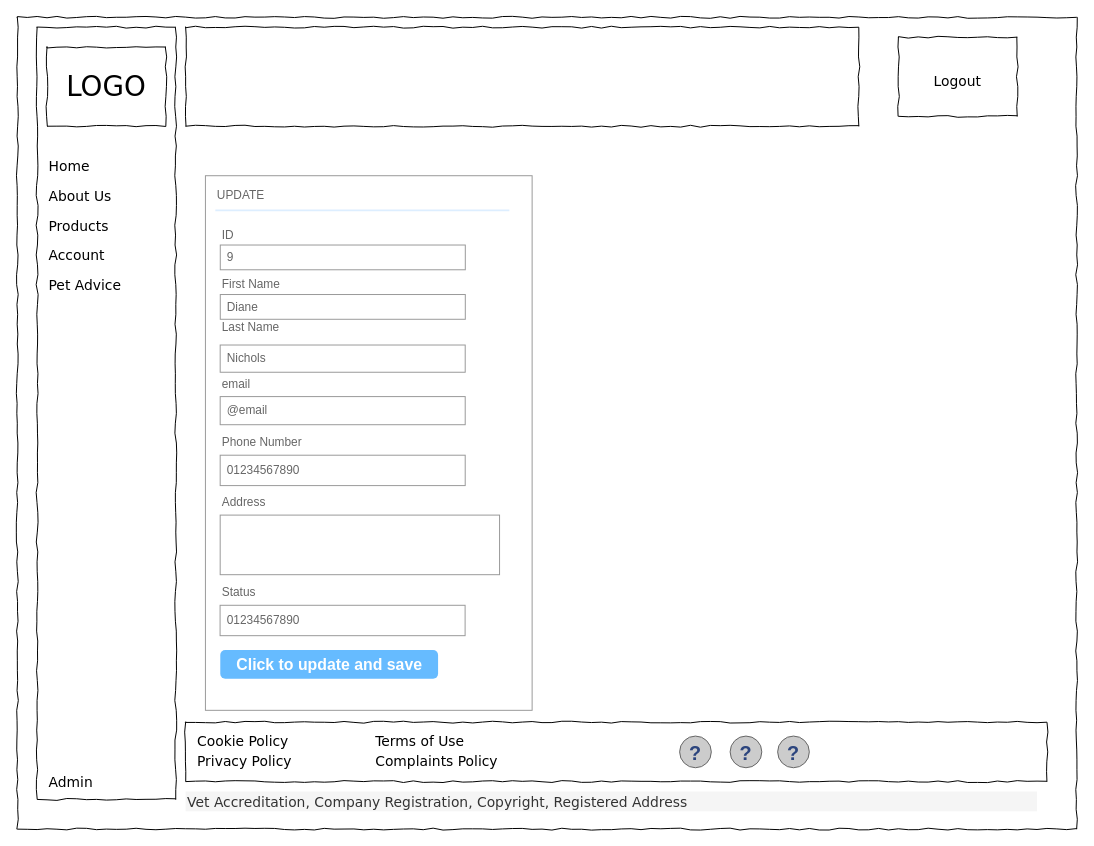
This 1094x846 diagram has some shape labels left out. Here are the shapes that lost their labels. From the top down, the centre of each, then its label:
At point (522, 76): "Vet Clinic Name".
At point (359, 544): "1 the street Manchester M9 4RT".
